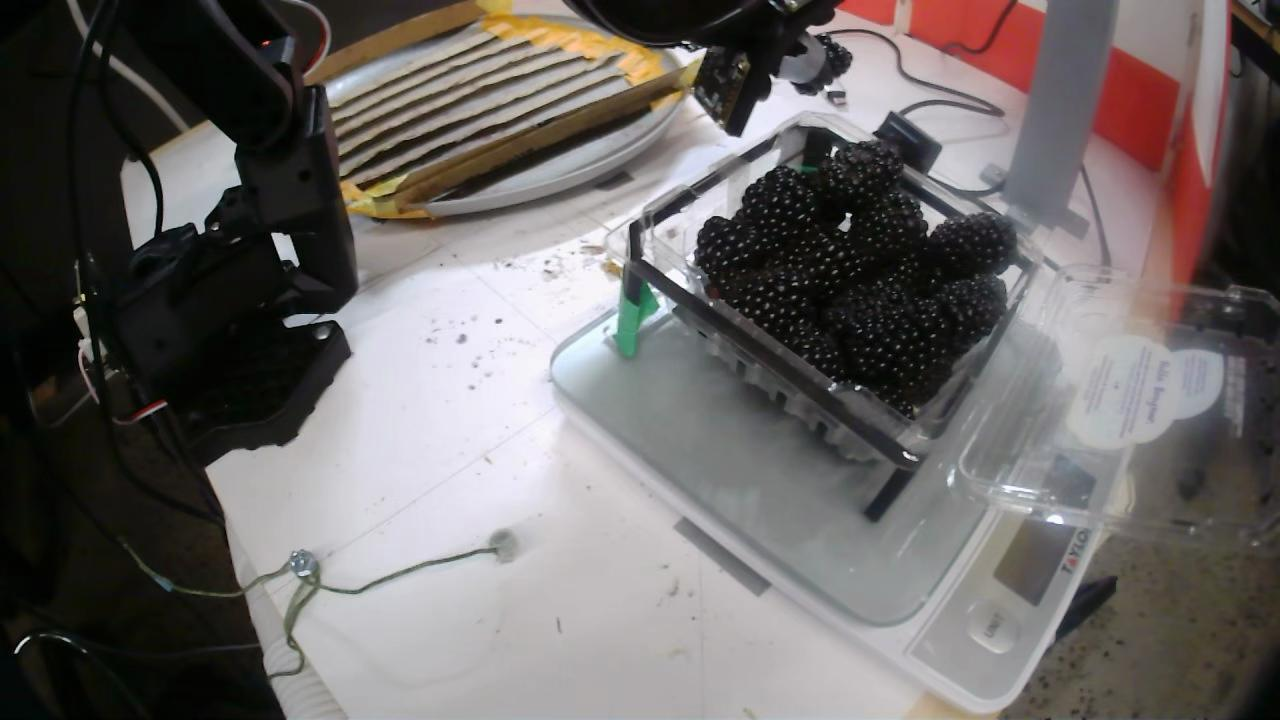berry: (841, 298, 952, 386), (737, 166, 843, 236), (780, 229, 865, 304), (816, 141, 903, 212), (927, 213, 1016, 278), (731, 269, 814, 334), (940, 275, 1006, 354), (848, 185, 927, 246), (823, 274, 910, 327), (773, 322, 847, 383), (694, 216, 745, 289), (792, 37, 852, 94), (852, 377, 916, 417), (735, 223, 774, 270)
